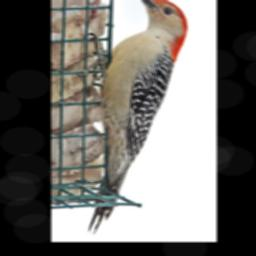Woodpecker: (87, 0, 187, 236)
